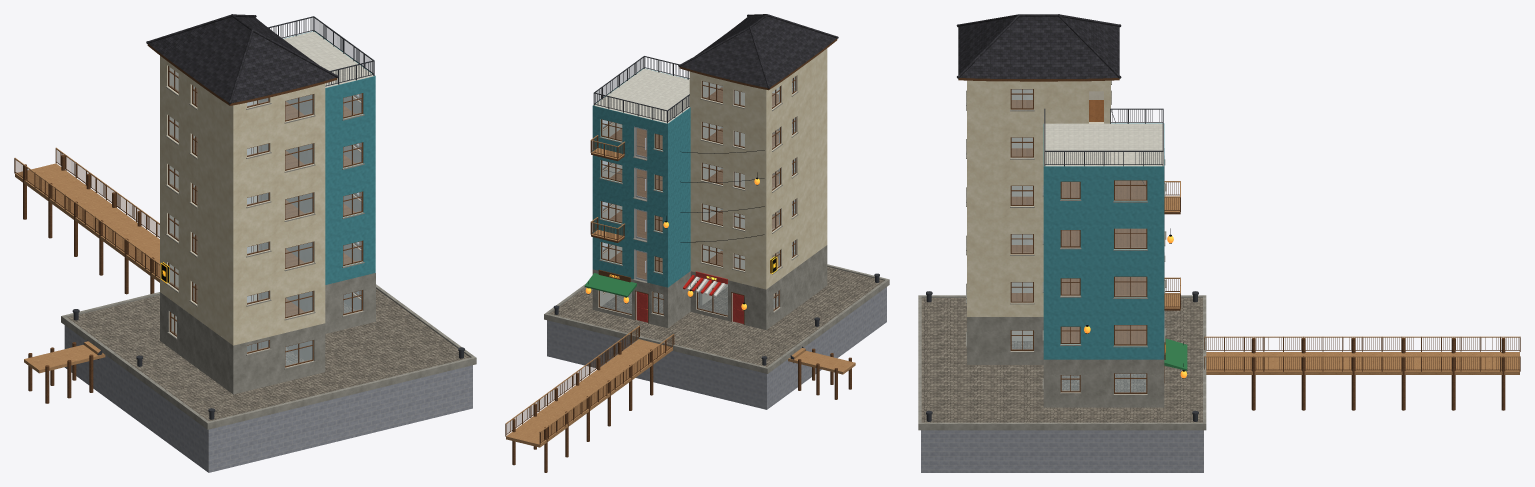
The model's file is b_canal_twin_tower.gltf.
The picture shows the model from 3 angles, left to right: view 1: azimuth 30°, elevation 25°; view 2: azimuth 150°, elevation 25°; view 3: azimuth 270°, elevation 25°; orthographic projection. The views are drawn at different scales.
Visible parts, largest first — view 1: S_canal_twin_tower; view 2: S_canal_twin_tower; view 3: S_canal_twin_tower.
Boxes of the visible parts, x1,y1,x2,y2 form: S_canal_twin_tower: (14, 14, 476, 472); S_canal_twin_tower: (505, 14, 889, 472); S_canal_twin_tower: (918, 14, 1520, 472).
Bounding box in the file's own units: 22.65 × 25.01 × 36.18.
Materials: 28 (14 with a texture image).
